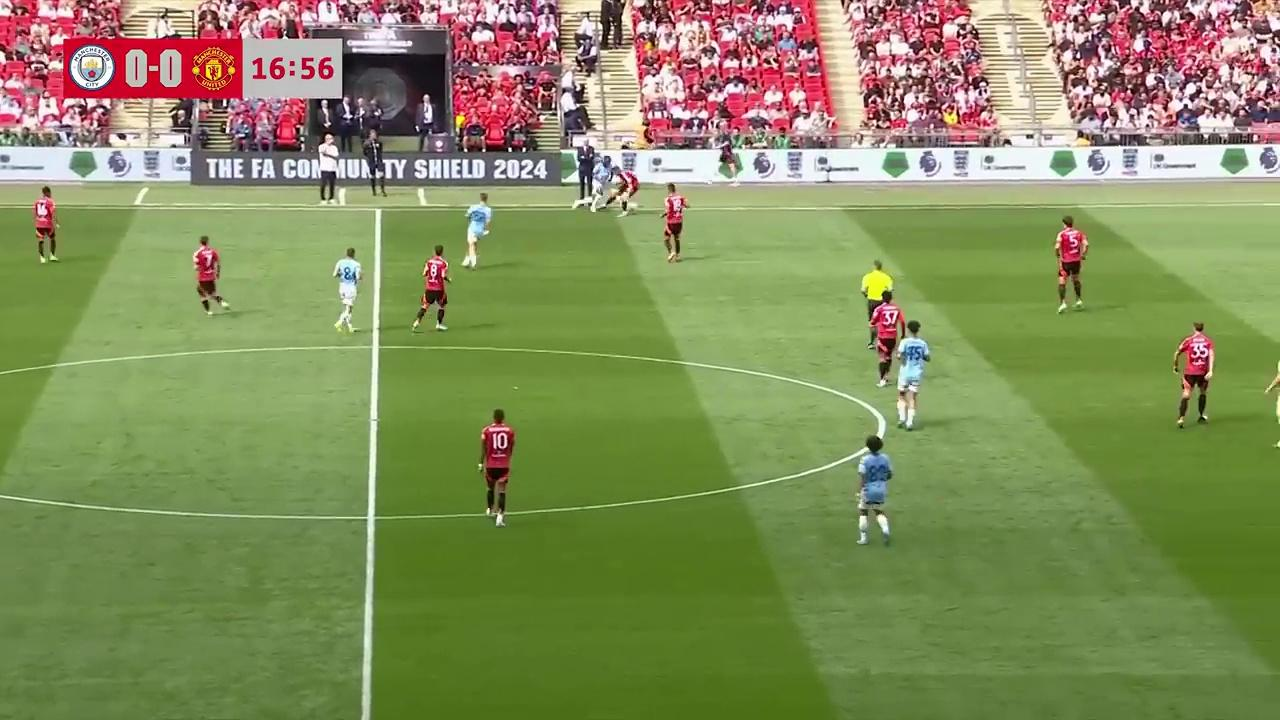ball: (628, 200, 640, 214)
player: (854, 433, 893, 546), (478, 408, 515, 526), (1175, 321, 1214, 427), (894, 321, 930, 429), (412, 245, 452, 334), (1054, 216, 1087, 315), (870, 295, 901, 386), (192, 236, 227, 316), (332, 247, 362, 333), (578, 153, 614, 218), (462, 193, 492, 269), (661, 184, 688, 262), (32, 186, 58, 262), (1262, 359, 1280, 446), (609, 163, 638, 215)
referee: (861, 260, 894, 321)
